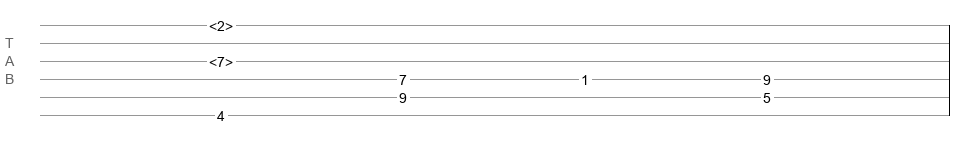1: (581, 72, 589, 82)
4: (217, 108, 225, 118)
5: (763, 90, 771, 100)
7: (399, 72, 407, 82)
9: (399, 90, 407, 100), (763, 72, 771, 82)
harmonic: (209, 18, 233, 28), (209, 54, 233, 64)
